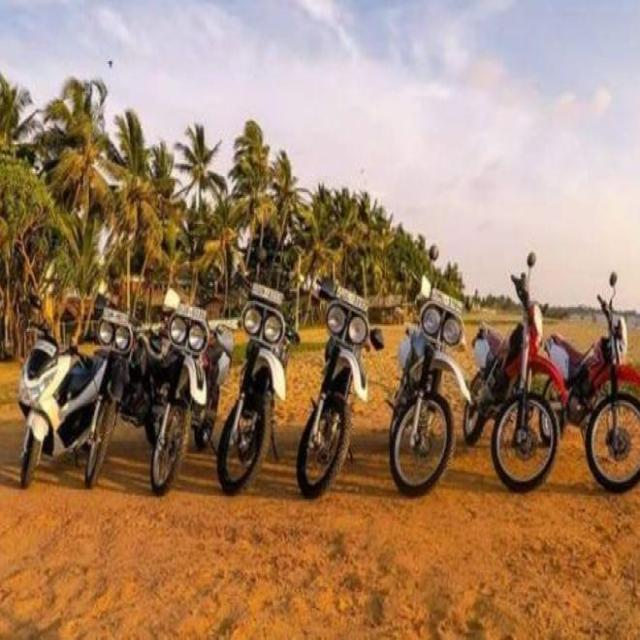motorcycle: (382, 248, 479, 494), (293, 258, 389, 498), (16, 289, 127, 488), (214, 260, 303, 492), (136, 286, 233, 490), (485, 266, 571, 492), (576, 276, 640, 488)
